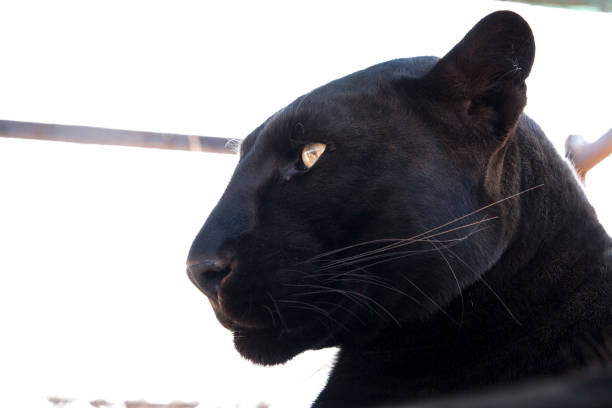panther: (123, 11, 611, 391)
